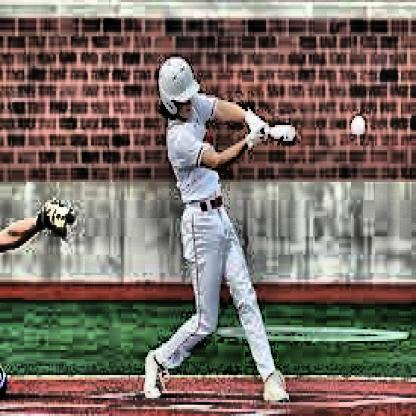baseball: (352, 113, 364, 137)
